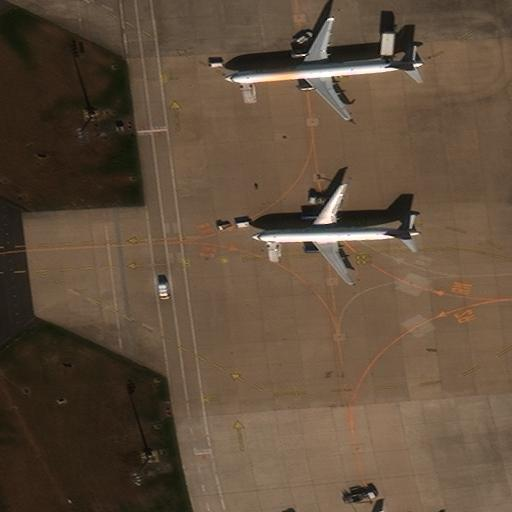Medium Civil Transport: (225, 18, 424, 121), (252, 185, 421, 285)
